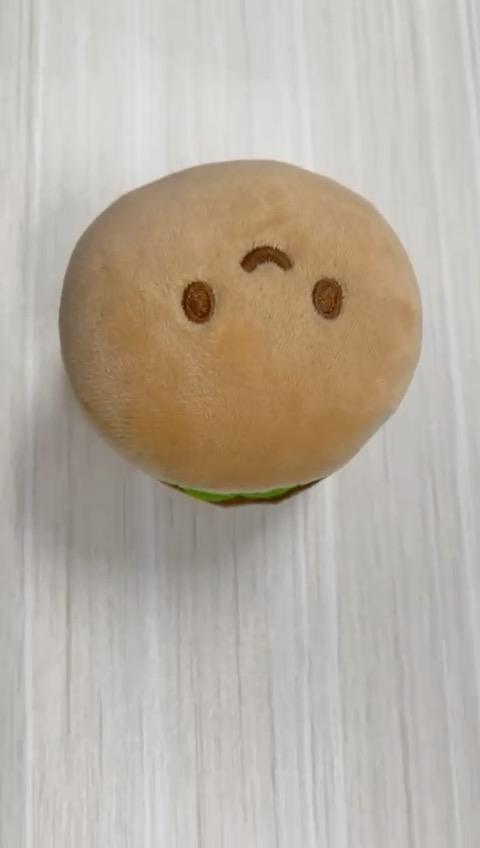hamburger: (59, 160, 423, 509)
